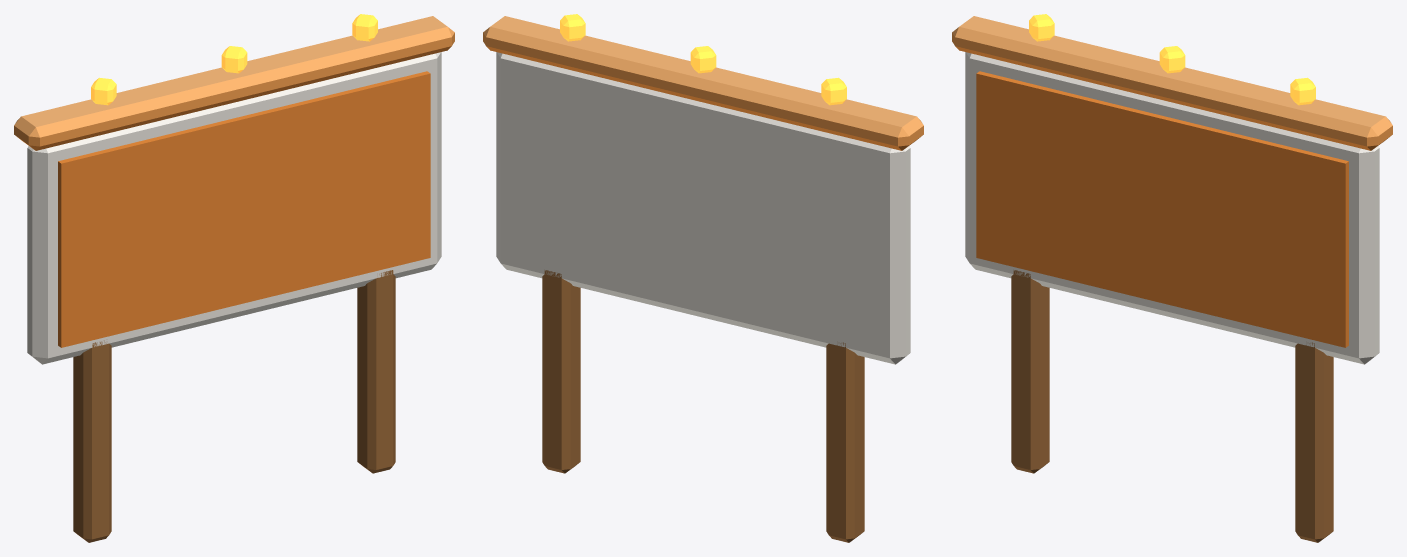
The model's file is OwnerBoard_1.glb.
3 views of the same model, side by side, from view 1: azimuth 30°, elevation 25°; view 2: azimuth 150°, elevation 25°; view 3: azimuth 330°, elevation 25° (orthographic).
Parts seen in each view (by area): view 1: OwnerBoard_1, OwnerBoard_1_Glow_acc1; view 2: OwnerBoard_1, OwnerBoard_1_Glow_acc1; view 3: OwnerBoard_1, OwnerBoard_1_Glow_acc1.
Boxes of the visible parts, x1=… form: OwnerBoard_1: x1=14, y1=16, x2=454, y2=542; OwnerBoard_1_Glow_acc1: x1=91, y1=14, x2=377, y2=105; OwnerBoard_1: x1=483, y1=16, x2=923, y2=542; OwnerBoard_1_Glow_acc1: x1=560, y1=14, x2=846, y2=105; OwnerBoard_1: x1=952, y1=16, x2=1392, y2=542; OwnerBoard_1_Glow_acc1: x1=1029, y1=14, x2=1315, y2=105.
Bounding box in the file's own units: 15 × 15.25 × 1.4.
Materials: 2 (1 with a texture image).
